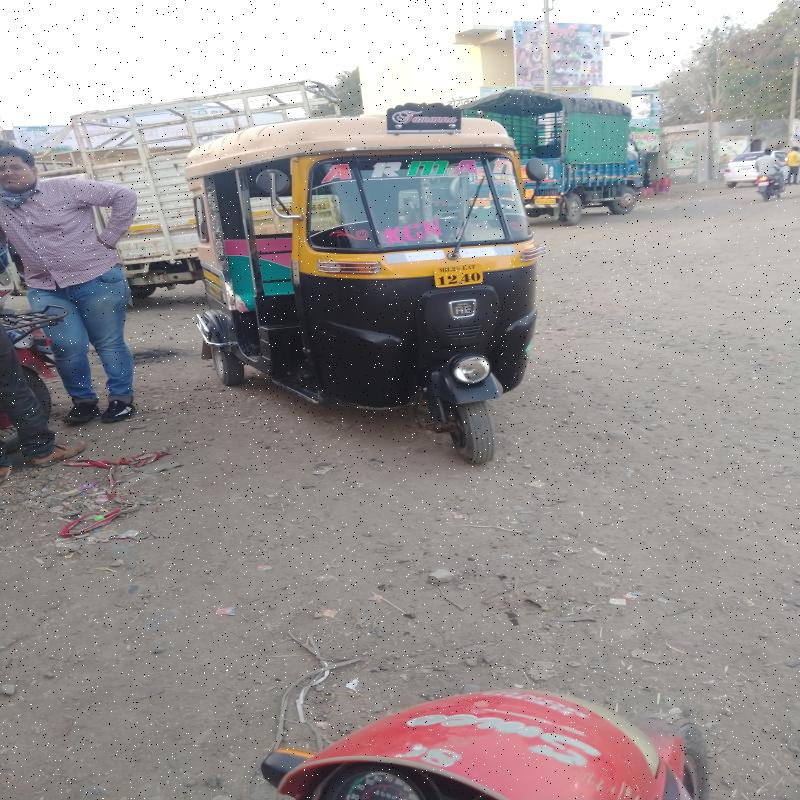auto: (189, 125, 530, 466)
